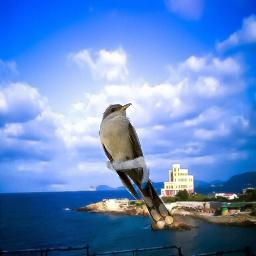Cuckoo: (99, 103, 174, 229)
